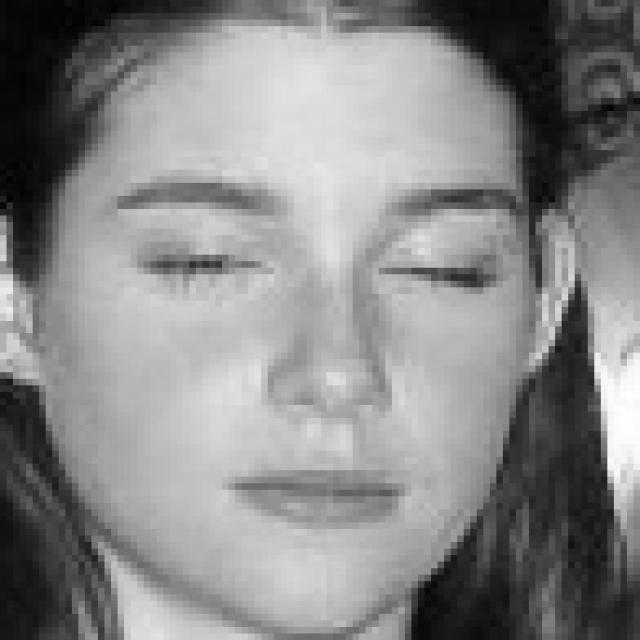real: (46, 0, 516, 618), (136, 192, 504, 325)
